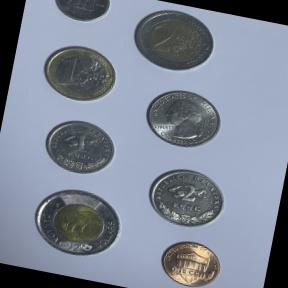1 Euro: (30, 35, 126, 114)
2 Euro: (122, 0, 223, 82)
Canda-10cent-: (45, 0, 115, 30)
Canda-2Dollar-: (24, 180, 131, 269)
Croatia-2Kune-: (140, 159, 234, 237)
US-1cent-: (151, 233, 229, 288)
US-25cent-: (136, 79, 231, 156)
